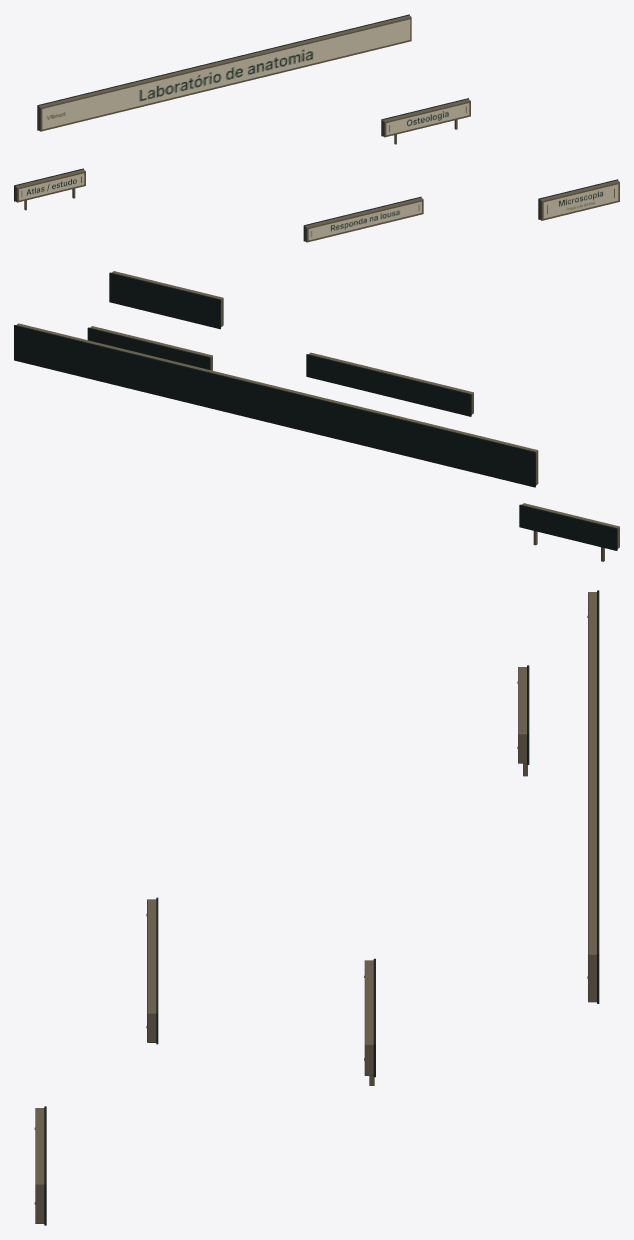
Rendered from sinalizacao-escola.glb.
The picture shows the model from 3 angles, top to bottom: view 1: azimuth 30°, elevation 25°; view 2: azimuth 150°, elevation 25°; view 3: azimuth 270°, elevation 25°; orthographic projection. The views are drawn at different scales.
Visible parts, largest first — view 1: escola_Impressao.005, escola_Ferragens.005, escola_Junta.005; view 2: escola_Junta.005, escola_Ferragens.005; view 3: escola_Ferragens.005, escola_Junta.005.
Boxes of the visible parts, x1=… form: escola_Impressao.005: x1=19, y1=19, x2=618, y2=240; escola_Ferragens.005: x1=15, y1=15, x2=619, y2=242; escola_Junta.005: x1=14, y1=14, x2=618, y2=241; escola_Junta.005: x1=14, y1=272, x2=617, y2=550; escola_Ferragens.005: x1=16, y1=271, x2=619, y2=561; escola_Ferragens.005: x1=34, y1=592, x2=596, y2=1223; escola_Junta.005: x1=44, y1=590, x2=599, y2=1225.
Size of the model in its own units: 6.04 by 1.22 by 3.06.
3 materials, 1 textured.
